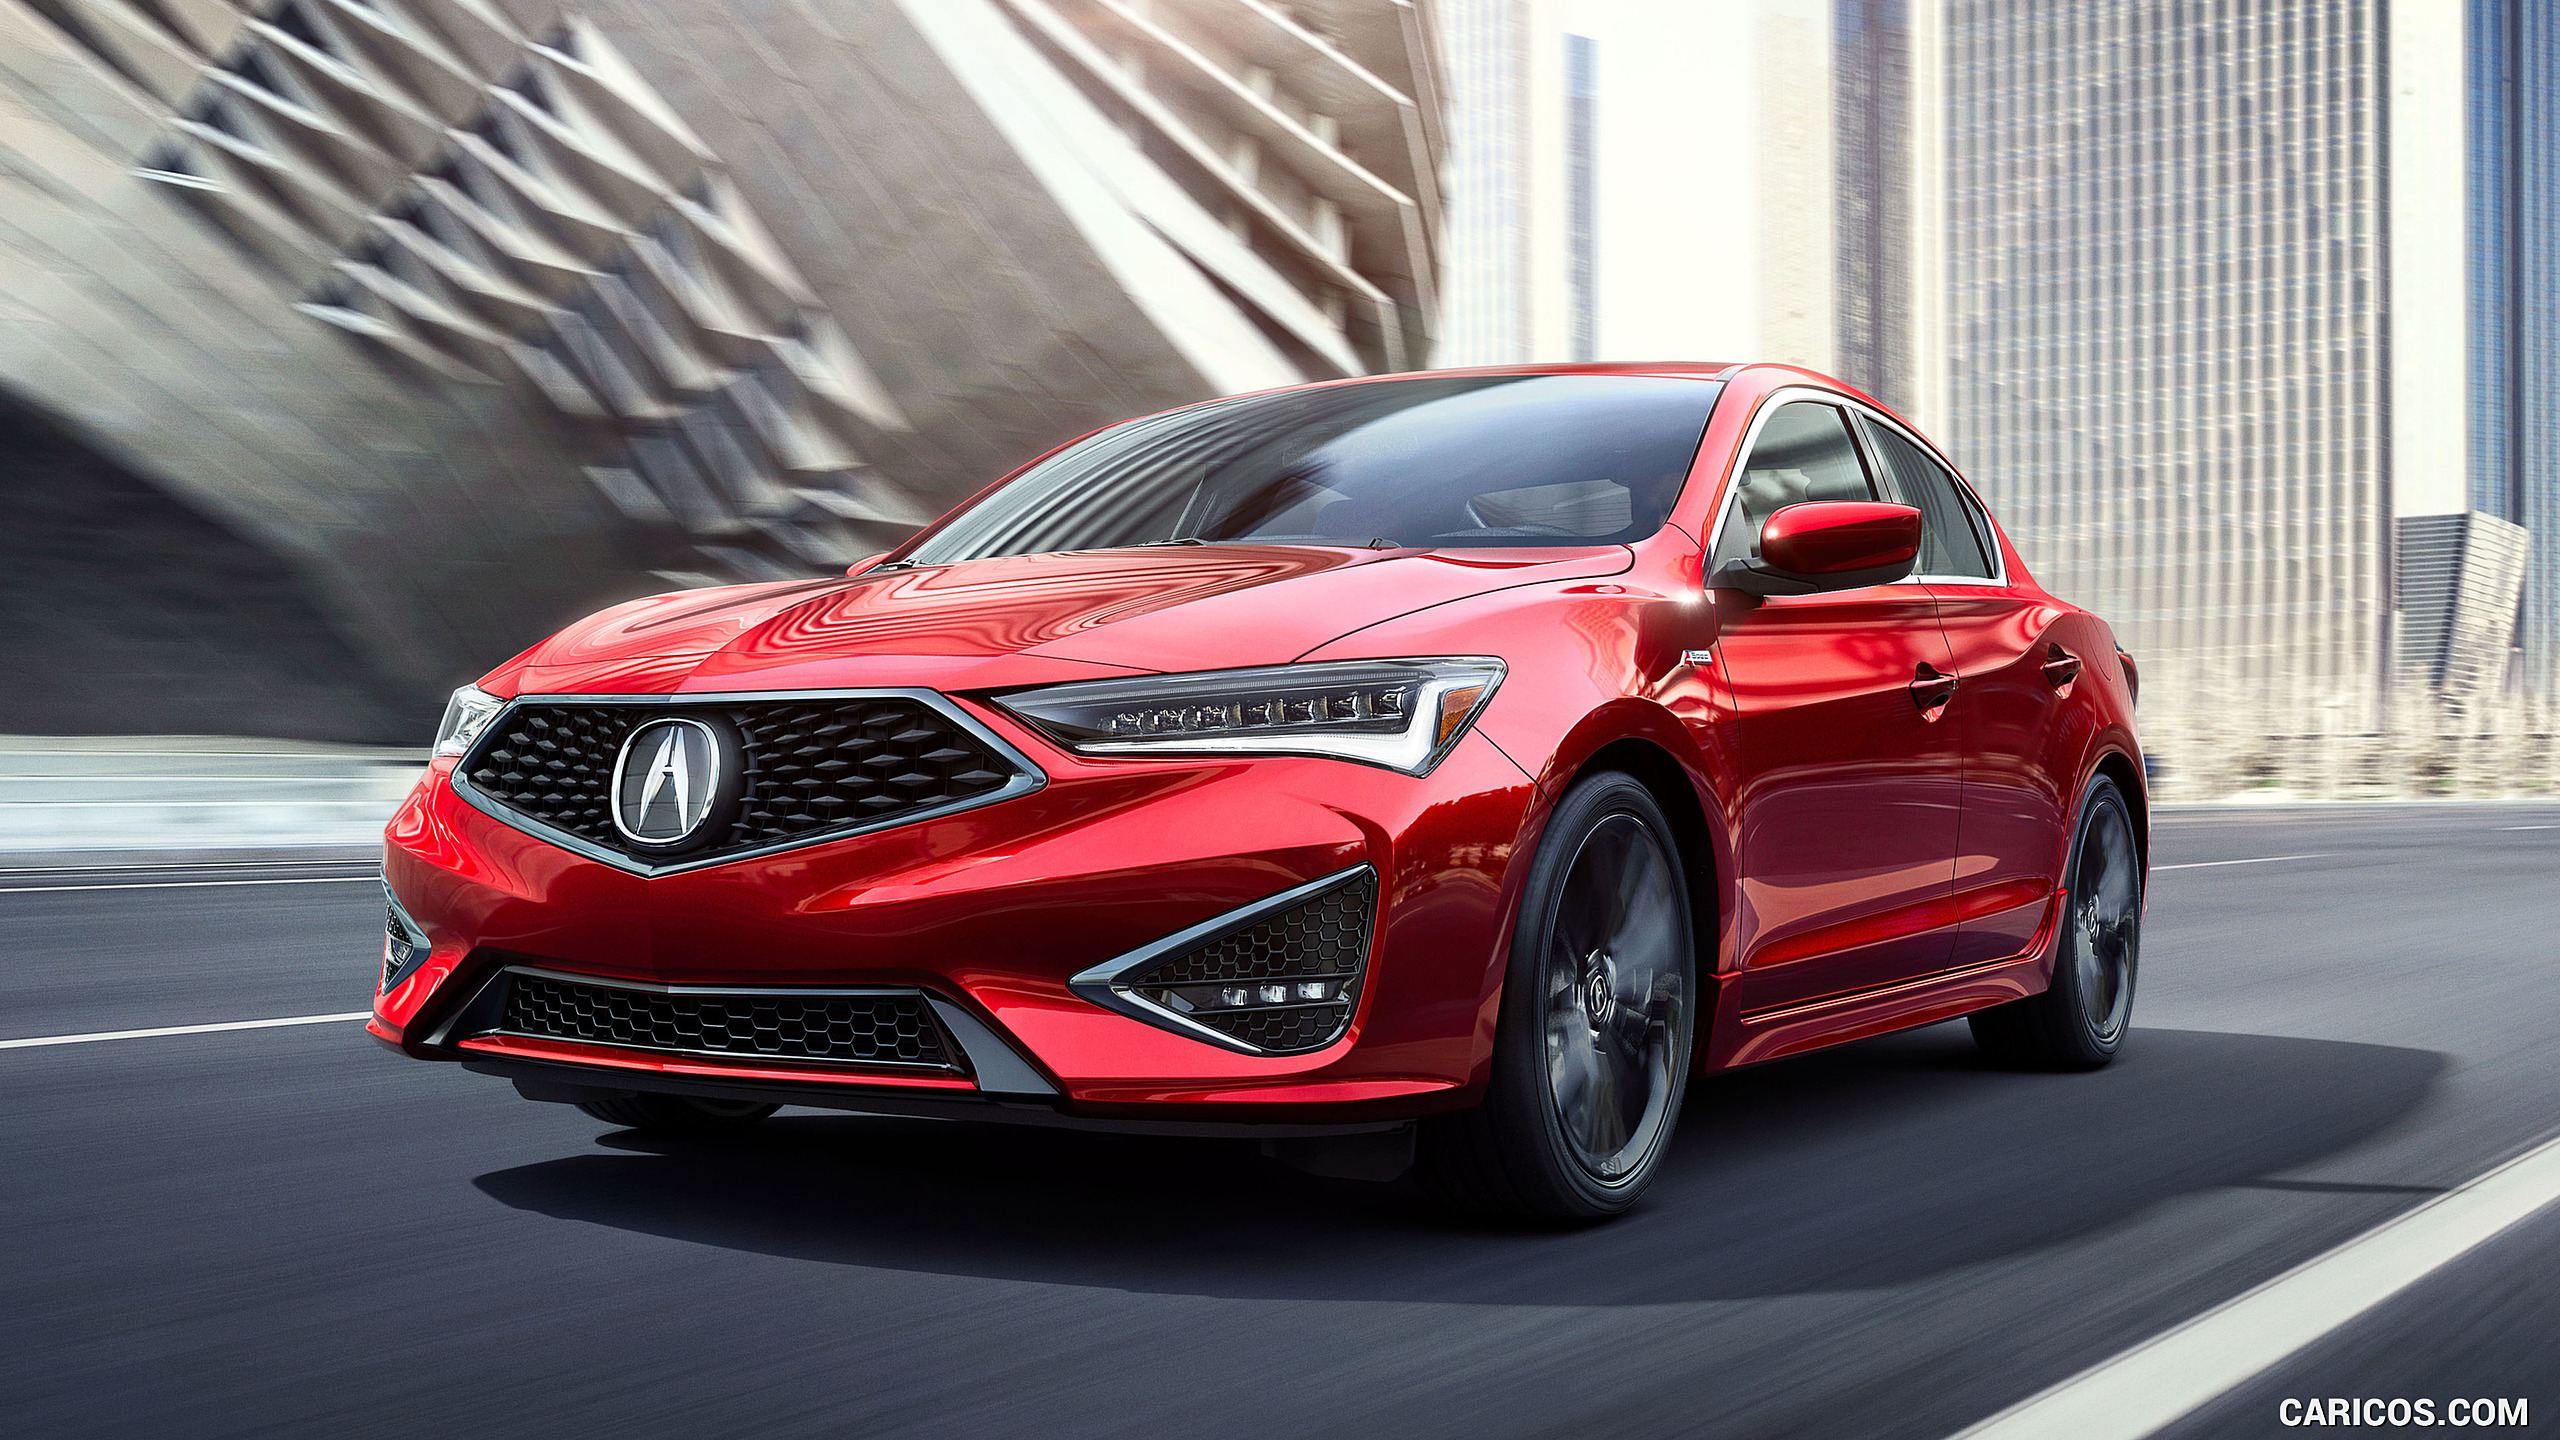Fog Lamp & Scope: (1120, 902, 1382, 1050)
Front: (367, 556, 1628, 1115)
Front Bumper: (367, 863, 1517, 1064)
Grill: (454, 703, 1007, 847)
Headlight: (1032, 658, 1505, 782)
